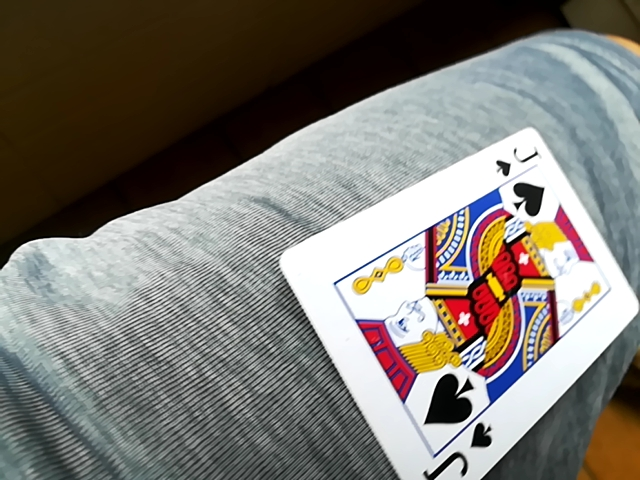ht j: (279, 123, 636, 480)
